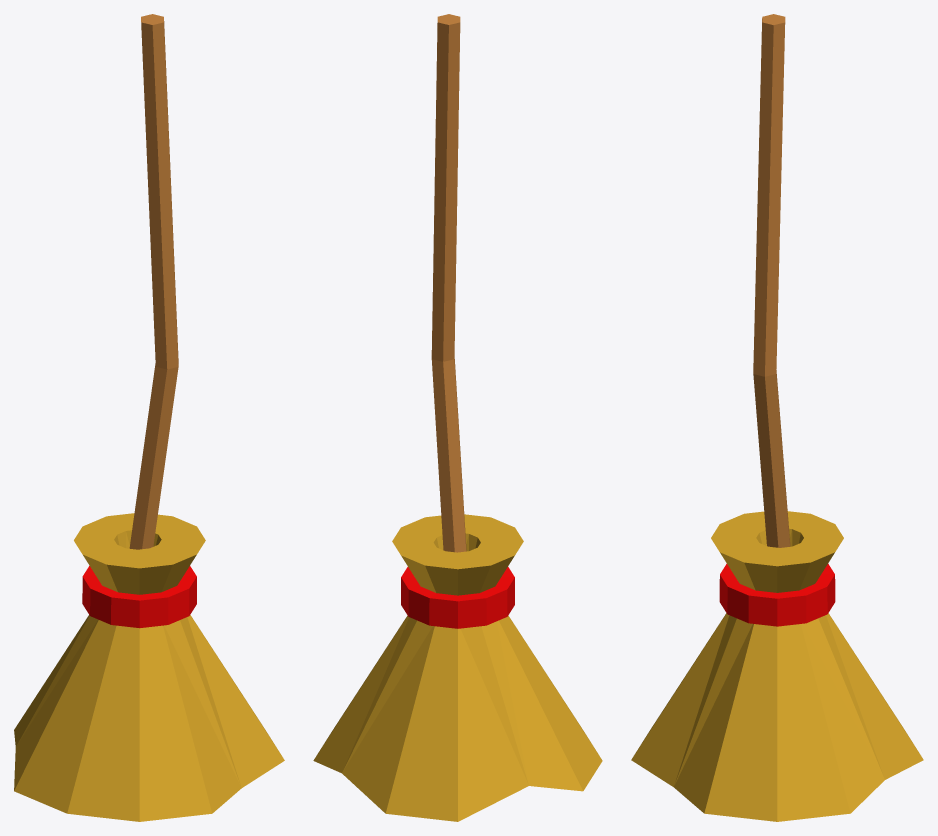
Rendered from Broom.fbx.
3 views of the same model, side by side, from view 1: azimuth 30°, elevation 25°; view 2: azimuth 150°, elevation 25°; view 3: azimuth 270°, elevation 25° (orthographic).
Parts seen in each view (by area): view 1: Baroom; view 2: Baroom; view 3: Baroom.
Boxes of the visible parts, x1=… form: Baroom: x1=14, y1=14, x2=284, y2=821; Baroom: x1=313, y1=14, x2=602, y2=821; Baroom: x1=631, y1=14, x2=923, y2=821.
Size of the model in its own units: 79.26 by 223 by 79.26.
